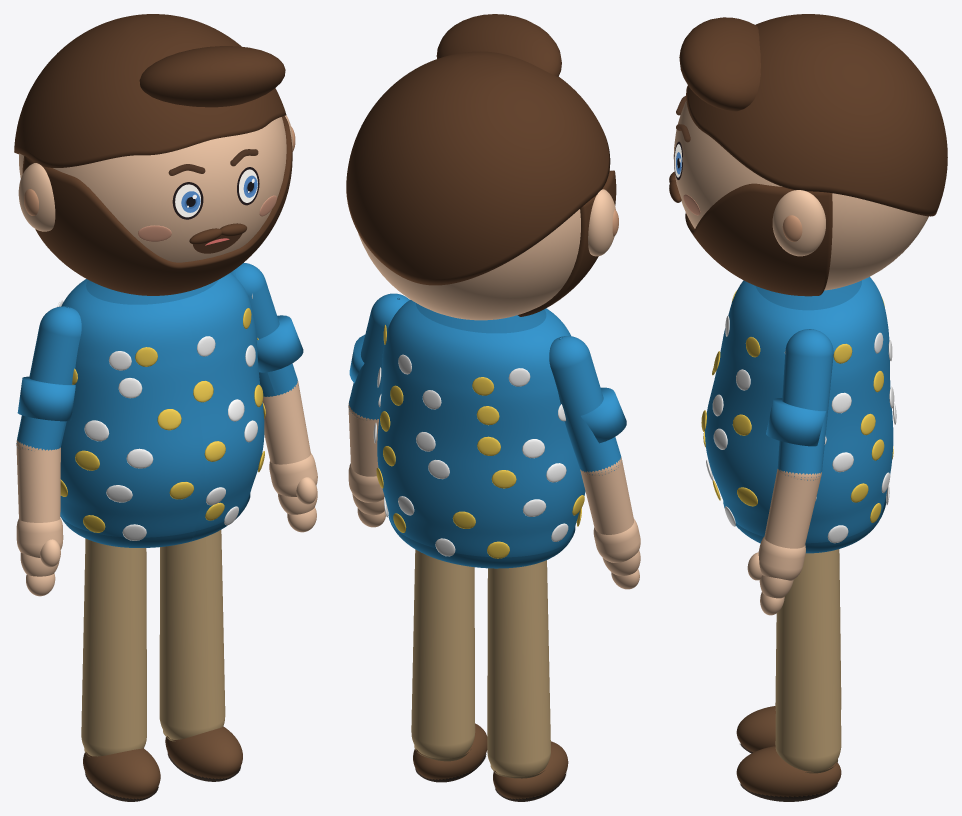
The model's file is papa.glb.
The picture shows the model from 3 angles, left to right: view 1: azimuth 30°, elevation 25°; view 2: azimuth 150°, elevation 25°; view 3: azimuth 270°, elevation 25°; orthographic projection. The views are drawn at different scales.
Visible parts, largest first — view 1: papa_romp, papa_haar, papa_hoofd, papa_been_R, papa_been_L, papa_baard, papa, papa_haar_kuif, papa_bovenarm_R, papa_onderarm_R, papa_schoen_R, papa_schoen_L (+10 smaller); view 2: papa_haar, papa_romp, papa_been_R, papa_been_L, papa_hoofd, papa, papa_bovenarm_R, papa_haar_kuif, papa_bovenarm_L, papa_onderarm_R, papa_schoen_R, papa_romp_boord (+8 smaller); view 3: papa_haar, papa_romp, papa_been_L, papa_hoofd, papa_baard, papa_haar_kuif, papa, papa_bovenarm_L, papa_schoen_L, papa_onderarm_L, papa_oor_L, papa_mouwzoom_L (+5 smaller).
Boxes of the visible parts, <box> form: papa_romp: <box>60,273,264,537</box>; papa_haar: <box>14,14,286,167</box>; papa_hoofd: <box>19,117,286,262</box>; papa_been_R: <box>81,538,146,756</box>; papa_been_L: <box>159,530,225,739</box>; papa_baard: <box>22,116,292,295</box>; papa: <box>57,294,265,540</box>; papa_haar_kuif: <box>139,46,285,107</box>; papa_bovenarm_R: <box>16,306,81,450</box>; papa_onderarm_R: <box>16,443,60,522</box>; papa_schoen_R: <box>83,748,160,799</box>; papa_schoen_L: <box>165,726,242,779</box>; papa_haar: <box>346,51,610,285</box>; papa_romp: <box>377,299,585,557</box>; papa_been_R: <box>487,560,550,776</box>; papa_been_L: <box>411,549,475,758</box>; papa_hoofd: <box>358,168,610,320</box>; papa: <box>373,325,584,558</box>; papa_bovenarm_R: <box>549,336,621,475</box>; papa_haar_kuif: <box>436,14,561,76</box>; papa_bovenarm_L: <box>348,293,409,419</box>; papa_onderarm_R: <box>580,460,633,534</box>; papa_schoen_R: <box>493,741,568,799</box>; papa_romp_boord: <box>388,513,575,568</box>; papa_haar: <box>686,14,947,216</box>; papa_romp: <box>705,277,893,543</box>; papa_been_L: <box>775,549,841,771</box>; papa_hoofd: <box>673,100,928,290</box>; papa_baard: <box>685,183,832,296</box>; papa_haar_kuif: <box>679,17,760,111</box>; papa: <box>701,290,896,543</box>; papa_bovenarm_L: <box>777,329,833,480</box>; papa_schoen_L: <box>736,746,841,797</box>; papa_onderarm_L: <box>764,469,820,548</box>; papa_oor_L: <box>772,190,825,256</box>; papa_mouwzoom_L: <box>766,398,826,446</box>.
Bounding box in the file's own units: 0.759 × 1.86 × 0.6207.
